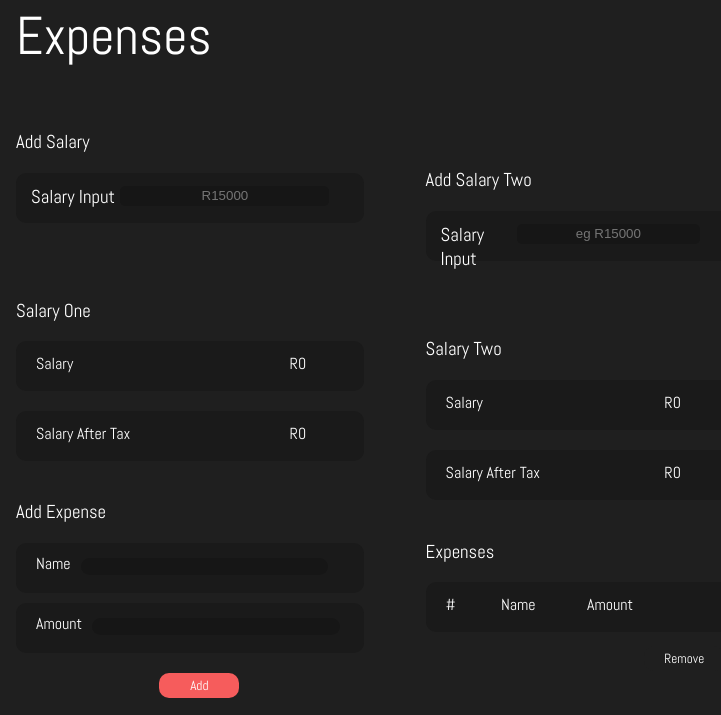
Test: Testing Page Three › Testing Salary One After Tax
Type "15000" into the field named "salaryOne". click: (225, 196)
box: [120,186,329,206]
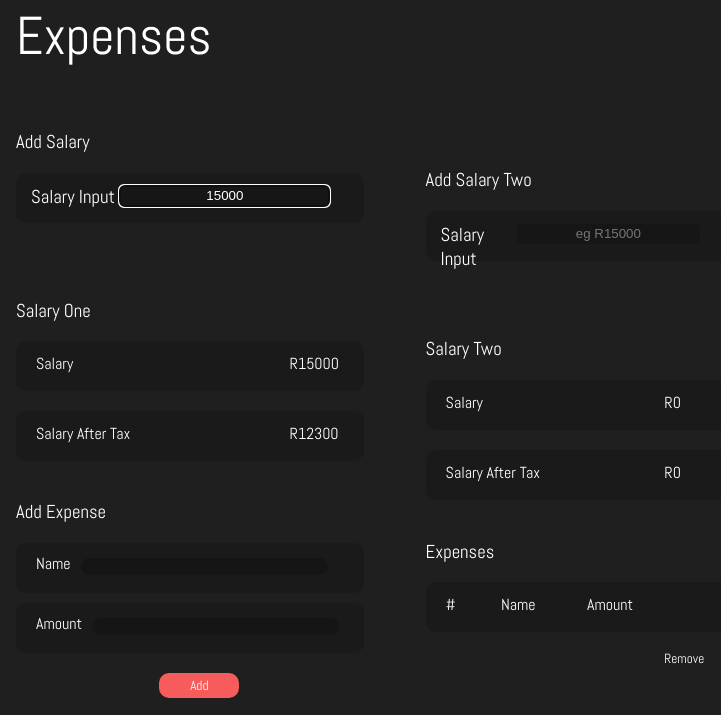
Now the text named "salary1AfterTax" reads "R12300", box [290,423,339,444]
